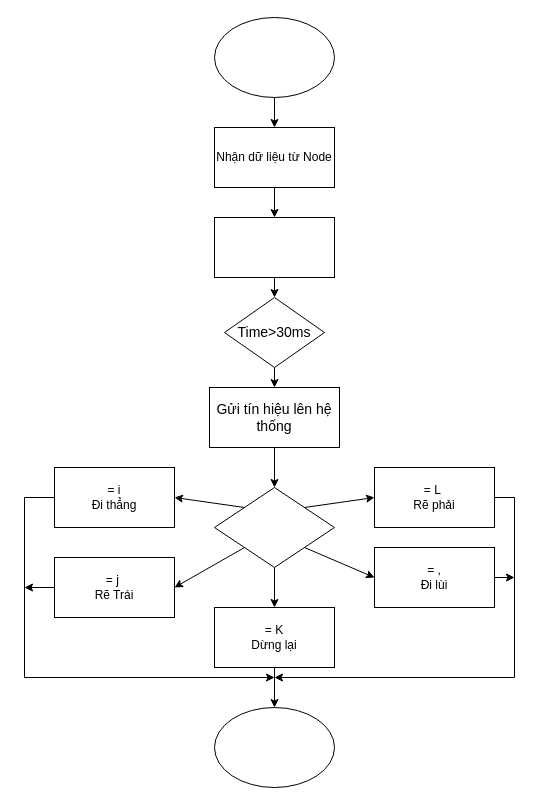
This 540x805 diagram has some shape labels left out. The shapes that lost their labels are listed below. From the top down, each one's centre as x and y in pixels, then its label:
At (274,57): "Start (Loop)".
At (274,247): "Tính Toán vận tốc bánh trái, phải".
At (274,527): "Bit_rs = ?".
At (274,747): "STOP".
